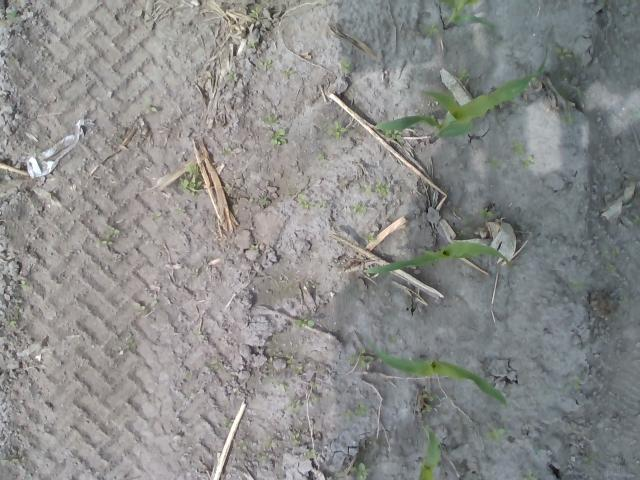Maize: (374, 40, 552, 138), (371, 348, 510, 408), (362, 241, 512, 276), (438, 0, 496, 31), (413, 424, 443, 480)
Weeds: (181, 164, 202, 192), (97, 227, 120, 248), (341, 402, 365, 422), (0, 6, 16, 29), (350, 350, 370, 365), (270, 128, 287, 145), (142, 95, 157, 114), (555, 46, 573, 61), (421, 392, 434, 412), (558, 113, 576, 127), (486, 428, 506, 439), (338, 58, 353, 72), (454, 69, 471, 81), (294, 318, 314, 328), (334, 120, 346, 136), (386, 128, 402, 140), (298, 194, 310, 209), (358, 462, 368, 480), (258, 58, 274, 69), (520, 469, 536, 480), (174, 205, 187, 218), (210, 358, 222, 372), (352, 203, 366, 215), (302, 448, 316, 460), (225, 70, 238, 82), (374, 185, 390, 194), (254, 196, 270, 205), (522, 156, 534, 168), (280, 65, 292, 77), (263, 114, 276, 125), (488, 156, 499, 169), (480, 209, 493, 220), (288, 398, 301, 408), (248, 7, 262, 16), (606, 262, 616, 274), (512, 142, 522, 152), (292, 434, 302, 444), (6, 320, 16, 329), (248, 242, 258, 251), (316, 152, 324, 162), (247, 40, 257, 48), (222, 146, 230, 156), (20, 279, 28, 289), (366, 231, 374, 240), (240, 438, 247, 448)
